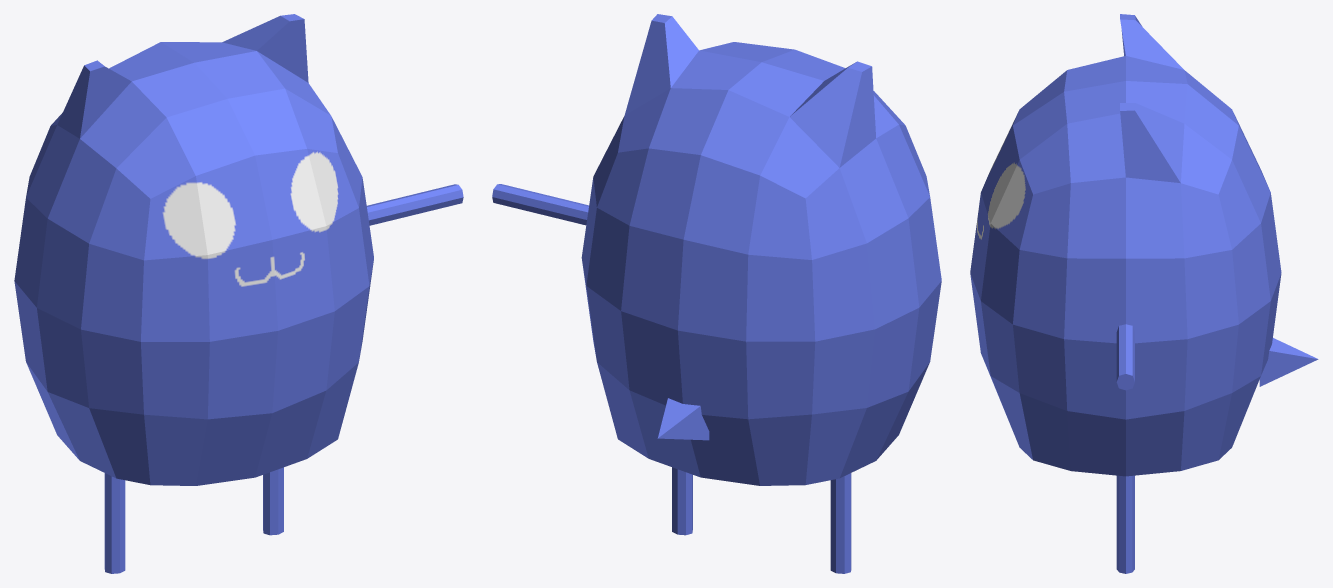
File: nyanyapuccin_lavender.glb
3 views of the same model, side by side, from view 1: azimuth 30°, elevation 25°; view 2: azimuth 150°, elevation 25°; view 3: azimuth 270°, elevation 25° (orthographic). The views are drawn at different scales.
Parts seen in each view (by area): view 1: Body, Legs, Arms; view 2: Body, Legs, Arms, Cone; view 3: Body, Legs, Cone, Arms.
Boxes of the visible parts, x1,y1,x2,y2 form: Body: (14,14,373,485); Legs: (104,467,283,573); Arms: (366,184,463,225); Body: (581,14,941,485); Legs: (672,467,851,573); Arms: (492,184,588,225); Cone: (657,398,709,440); Body: (970,14,1281,476); Legs: (1116,475,1134,573); Cone: (1259,338,1318,386); Arms: (1116,324,1134,390).
Size of the model in its own units: 3.15 by 3.63 by 2.43.
1 material, 1 textured.
